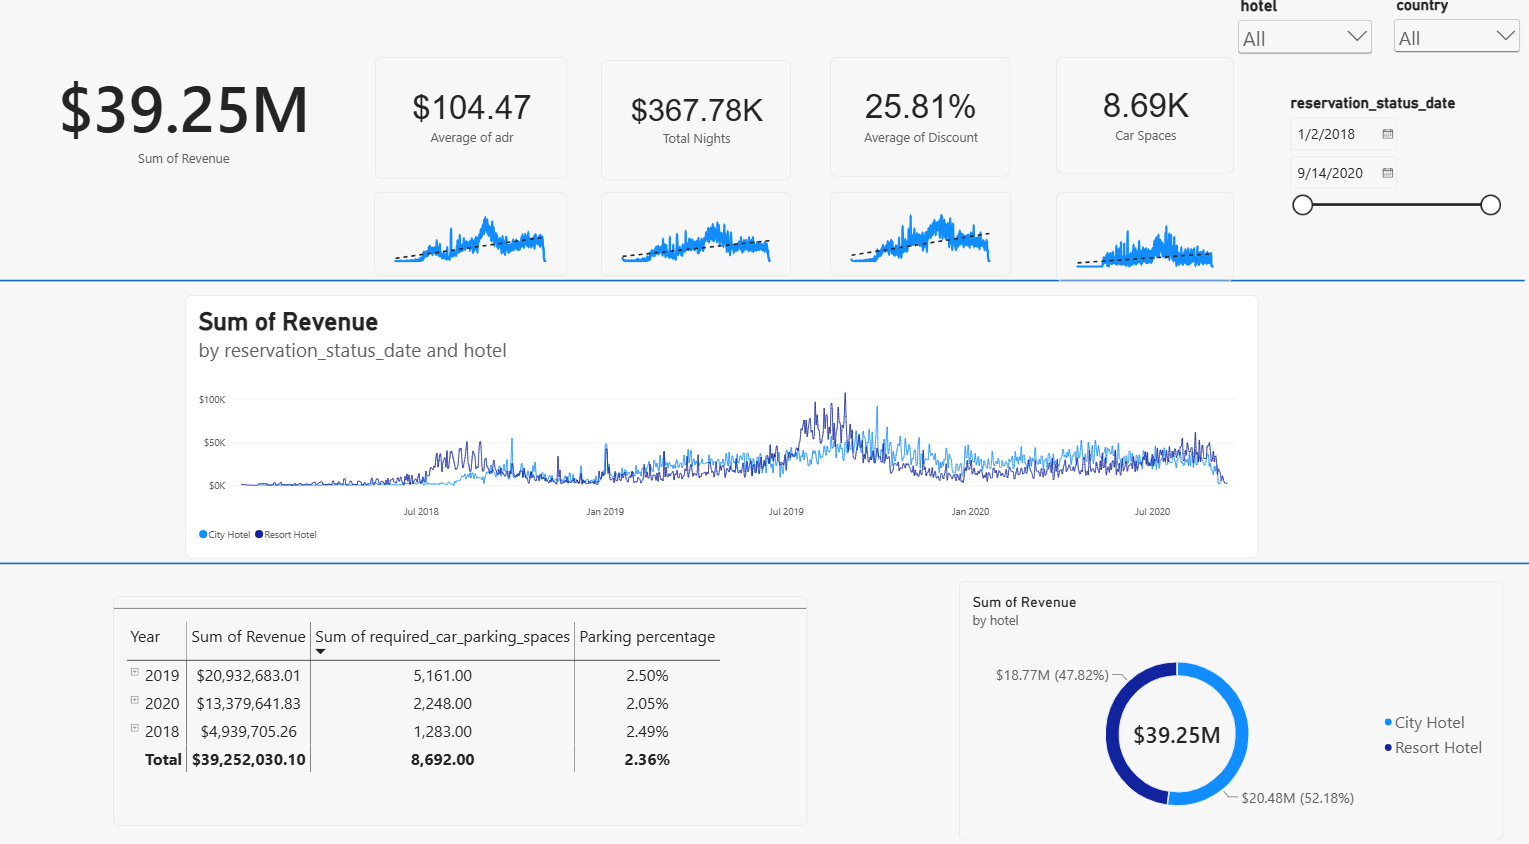

Layout of this report page (visuals, bound fields, positions):
{"tool":"powerbi","page":{"name":"Page 1","canvas":[1920,1080],"ordinal":0},"visuals":[{"type":"shape","box":[0,303.3,1910,106.7],"z":0},{"type":"shape","box":[0,580,1920,261.7],"z":1000},{"type":"cardVisual","fields":{"Data":["Sum(Query1.Revenue)"]},"box":[16.7,0,428.9,298.9],"z":2000},{"type":"cardVisual","fields":{"Data":["Avg(Query1.adr)"]},"box":[470,76.7,241.1,153.3],"z":3000},{"type":"cardVisual","fields":{"Data":["Query1.Total Nights"]},"box":[753.3,80,238.9,150],"z":4000},{"type":"cardVisual","fields":{"Data":["Avg(Query1.Discount)"]},"box":[1040,76.7,226.7,150],"z":5000},{"type":"lineChart","fields":{"Category":["Query1.reservation_status_date"],"Series":["Query1.hotel"],"Y":["Sum(Query1.Revenue)"]},"box":[231.7,375,1345,330],"z":6000},{"type":"slicer","fields":{"Values":["Query1.country"]},"box":[1741.7,0,168.3,100],"z":7000},{"type":"slicer","fields":{"Values":["Query1.hotel"]},"box":[1546.7,0,178.3,76.7],"z":8000},{"type":"lineChart","fields":{"Category":["Query1.reservation_status_date"],"Y":["Sum(Query1.adr)"]},"box":[468.3,245,241.7,105],"z":9000},{"type":"lineChart","fields":{"Category":["Query1.reservation_status_date"],"Y":["Query1.Total Nights"]},"box":[753.3,245,238.3,105],"z":10000},{"type":"lineChart","fields":{"Category":["Query1.reservation_status_date"],"Y":["Sum(Query1.Discount)"]},"box":[1040,245,226.7,105],"z":11000},{"type":"cardVisual","fields":{"Data":["Sum(Query1.required_car_parking_spaces)"]},"box":[1323.3,76.7,223.3,146.7],"z":12000},{"type":"lineChart","fields":{"Category":["Query1.reservation_status_date"],"Y":["Sum(Query1.required_car_parking_spaces)"]},"box":[1323.3,245,223.3,111.7],"z":13000},{"type":"donutChart","fields":{"Category":["Query1.hotel"],"Y":["Sum(Query1.Revenue)"]},"box":[1201.7,733.3,681.7,325],"z":14000},{"type":"pivotTable","fields":{"Rows":["Query1.reservation_status_date.Variation.Date Hierarchy.Year","Query1.hotel"],"Values":["Sum(Query1.Revenue)","Sum(Query1.required_car_parking_spaces)","Query1.Parking percentage"]},"box":[141.7,751.7,870,288.3],"z":15000},{"type":"slicer","fields":{"Values":["Query1.reservation_status_date"]},"box":[1608.3,123.3,275,160],"z":15001}]}

Visuals, with their boxes in screenshot pixels (x1, y1, x2, y2), scaled from the page's 1920x1080 canvas onto the 1529x844 screenshot:
shape: (0, 237, 1521, 320)
shape: (0, 453, 1528, 658)
cardVisual - Sum(Query1.Revenue): (13, 0, 355, 234)
cardVisual - Avg(Query1.adr): (374, 60, 566, 180)
cardVisual - Query1.Total Nights: (600, 63, 790, 180)
cardVisual - Avg(Query1.Discount): (828, 60, 1009, 177)
lineChart - Query1.reservation_status_date x Query1.hotel: (185, 293, 1256, 551)
slicer - Query1.country: (1387, 0, 1521, 78)
slicer - Query1.hotel: (1232, 0, 1374, 60)
lineChart - Query1.reservation_status_date x Sum(Query1.adr): (373, 191, 565, 274)
lineChart - Query1.reservation_status_date x Query1.Total Nights: (600, 191, 790, 274)
lineChart - Query1.reservation_status_date x Sum(Query1.Discount): (828, 191, 1009, 274)
cardVisual - Sum(Query1.required_car_parking_spaces): (1054, 60, 1232, 175)
lineChart - Query1.reservation_status_date x Sum(Query1.required_car_parking_spaces): (1054, 191, 1232, 279)
donutChart - Query1.hotel x Sum(Query1.Revenue): (957, 573, 1500, 827)
pivotTable - Query1.reservation_status_date.Variation.Date Hierarchy.Year x Query1.hotel: (113, 587, 806, 813)
slicer - Query1.reservation_status_date: (1281, 96, 1500, 221)
